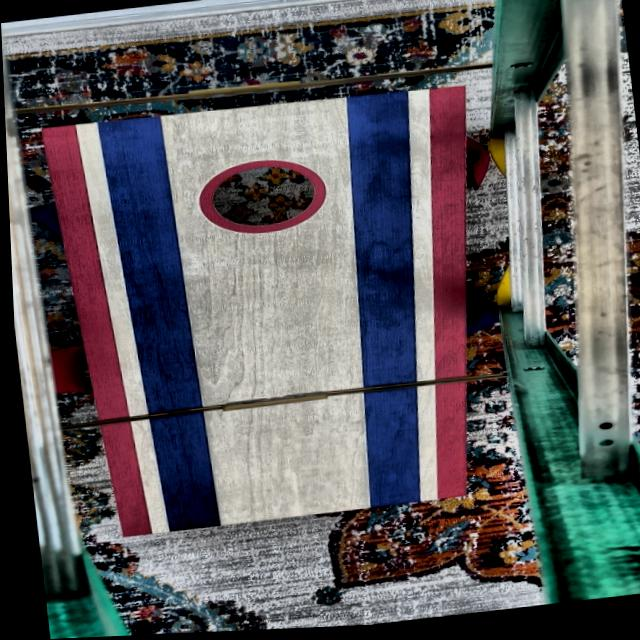blue-bean-bag: (27, 198, 58, 247), (461, 306, 496, 339)
board: (73, 91, 460, 535)
hole: (190, 155, 328, 241)
red-bean-bag: (47, 344, 85, 393), (461, 138, 489, 194)
